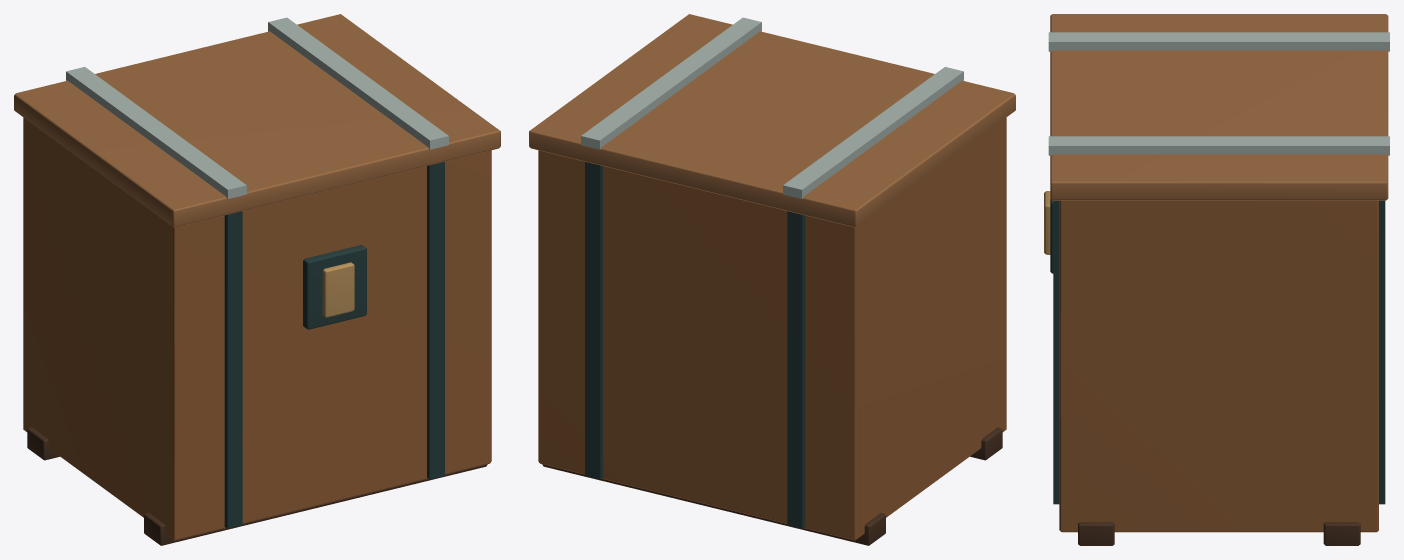
The model's file is crate-lod0.glb.
3 views of the same model, side by side, from view 1: azimuth 30°, elevation 25°; view 2: azimuth 150°, elevation 25°; view 3: azimuth 270°, elevation 25° (orthographic). The views are drawn at different scales.
Visible parts, largest first — view 1: SM_CargoCrate_V3_LOD0; view 2: SM_CargoCrate_V3_LOD0; view 3: SM_CargoCrate_V3_LOD0.
Boxes of the visible parts, x1,y1,x2,y2 form: SM_CargoCrate_V3_LOD0: (14, 14, 500, 545); SM_CargoCrate_V3_LOD0: (529, 14, 1015, 545); SM_CargoCrate_V3_LOD0: (1044, 14, 1389, 545).
Size of the model in its own units: 1.3 by 1.34 by 1.12.
